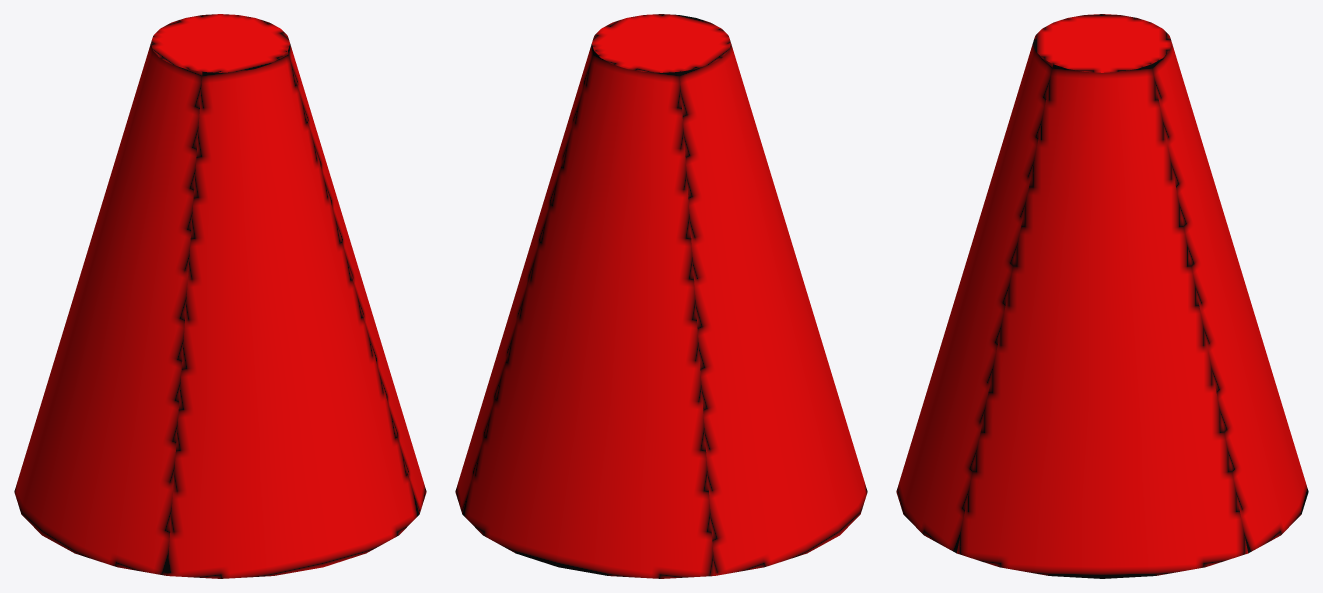
File: Alniyat_Crew_4_Interior.obj
3 views of the same model, side by side, from view 1: azimuth 30°, elevation 25°; view 2: azimuth 150°, elevation 25°; view 3: azimuth 270°, elevation 25° (orthographic).
Parts seen in each view (by area): view 1: Alniyat_Crew_4_Interior; view 2: Alniyat_Crew_4_Interior; view 3: Alniyat_Crew_4_Interior.
Part boxes in pixels (x1,y1,x2,y2): Alniyat_Crew_4_Interior: [14, 14, 426, 578]; Alniyat_Crew_4_Interior: [455, 14, 867, 578]; Alniyat_Crew_4_Interior: [896, 14, 1308, 578].
Size of the model in its own units: 1.79 by 2.15 by 1.79.
1 material, 1 textured.
